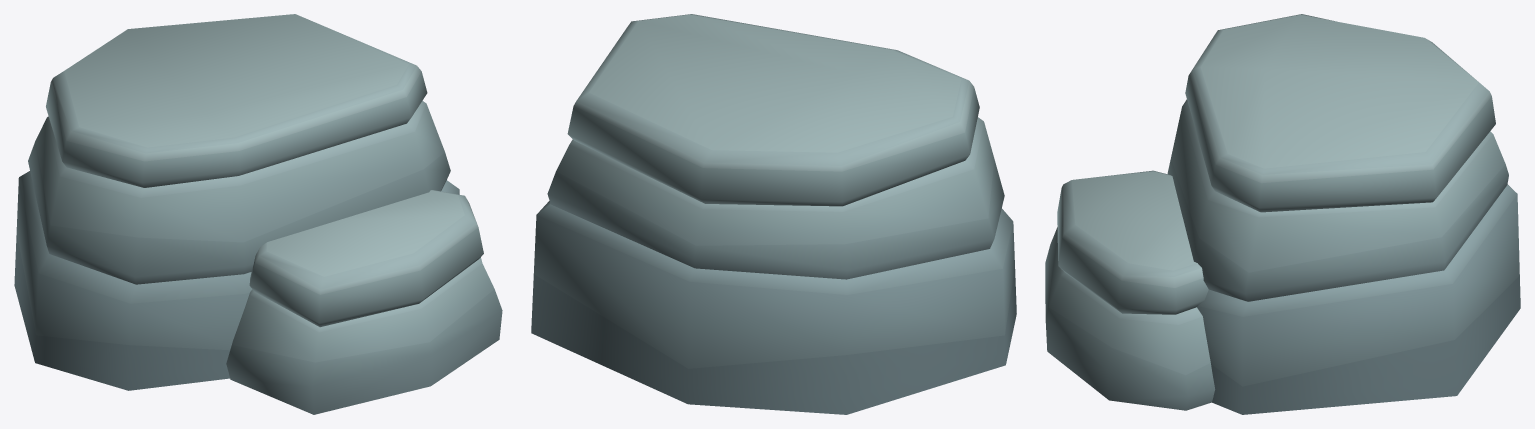
Rendered from platform_kit028.fbx.
3 renders of one model, left to right at view 1: azimuth 30°, elevation 25°; view 2: azimuth 150°, elevation 25°; view 3: azimuth 270°, elevation 25°, orthographic. The views are drawn at different scales.
Visible parts, largest first — view 1: platform_kit028; view 2: platform_kit028; view 3: platform_kit028.
Boxes of the visible parts, x1,y1,x2,y2 form: platform_kit028: [14, 14, 502, 414]; platform_kit028: [531, 14, 1016, 414]; platform_kit028: [1045, 14, 1520, 414].
Bounding box in the file's own units: 378 × 200 × 383.
1 material, 1 textured.
